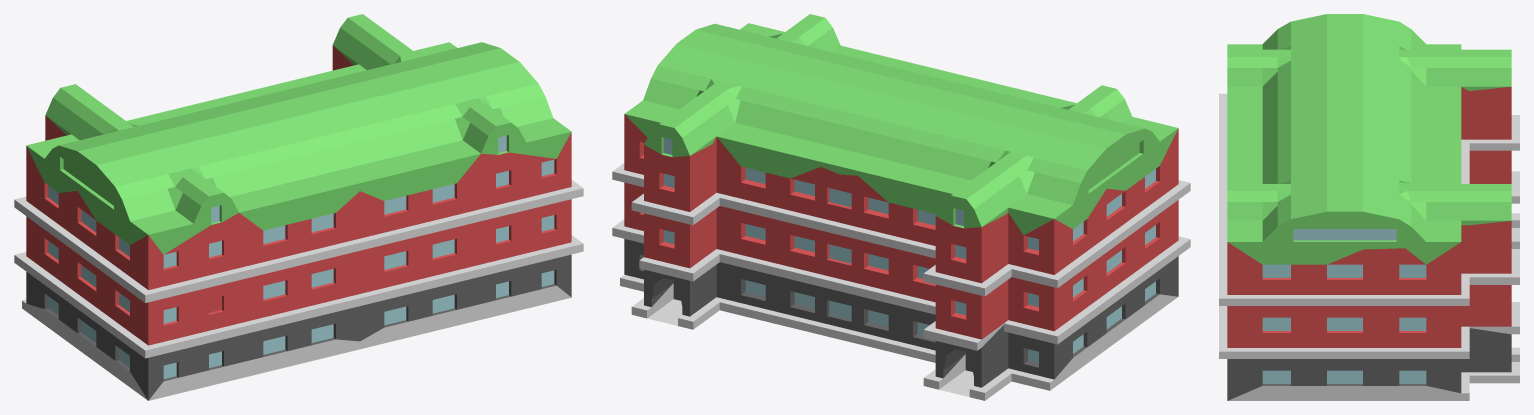
File: MorHouse5_LOD2.fbx
The picture shows the model from 3 angles, left to right: view 1: azimuth 30°, elevation 25°; view 2: azimuth 150°, elevation 25°; view 3: azimuth 270°, elevation 25°; orthographic projection. The views are drawn at different scales.
Visible parts, largest first — view 1: Cube.001; view 2: Cube.001; view 3: Cube.001.
Boxes of the visible parts, x1,y1,x2,y2 form: Cube.001: [14, 14, 583, 400]; Cube.001: [612, 14, 1190, 400]; Cube.001: [1219, 14, 1519, 400].
Size of the model in its own units: 5800 by 2500 by 3600.
